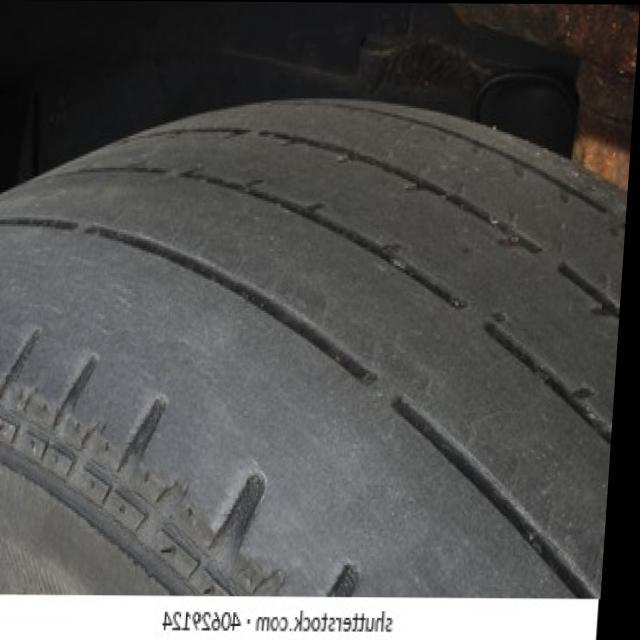Flat spots: (19, 177, 590, 584)
